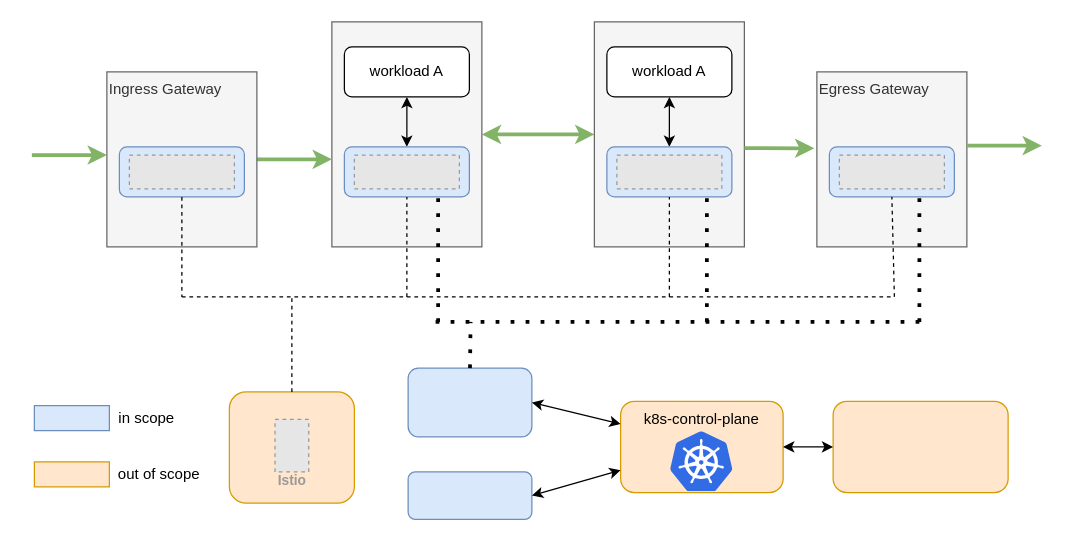
Image size: 1075x541. Some labels were removed from this diagram. Grey dashed boxes stand in for pictures. The shapes that lost their labels are listed below. From the top down, each one's centre as x and y in pixels, then its label:
At pixel 469 402: "Bumping Certificate Provider".
At pixel 920 446: "Custom CA Issuer".
At pixel 469 495: "Bumping Controller".
